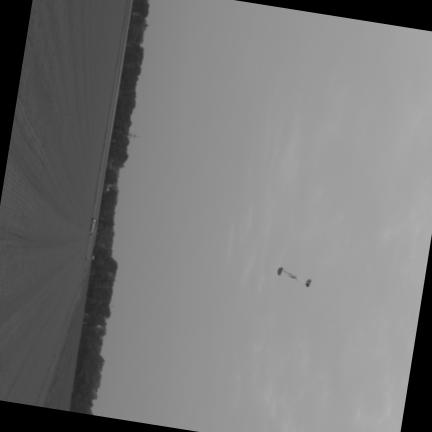Shahed: (275, 267, 312, 288)
